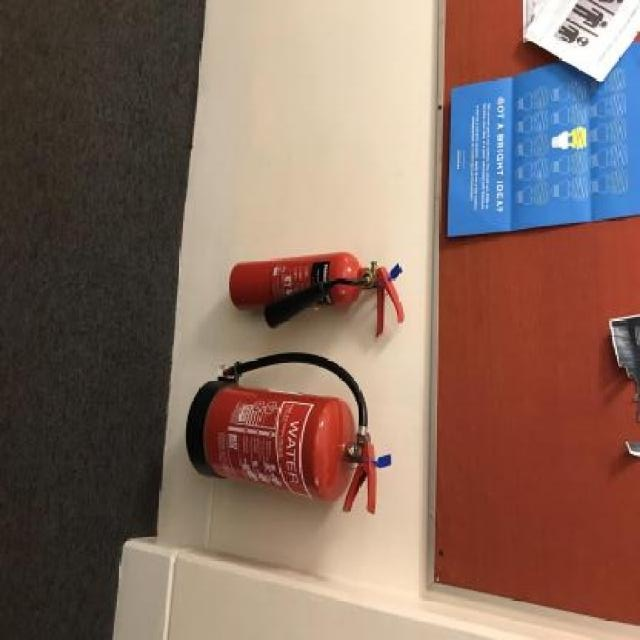fire extinguisher: (184, 349, 393, 516), (229, 252, 403, 339)
